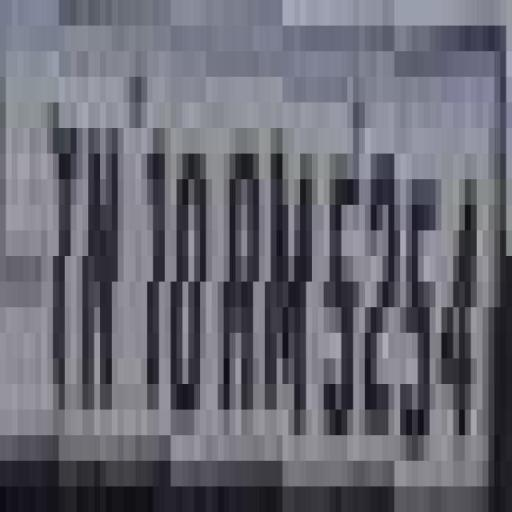number plate: (0, 24, 482, 510)
